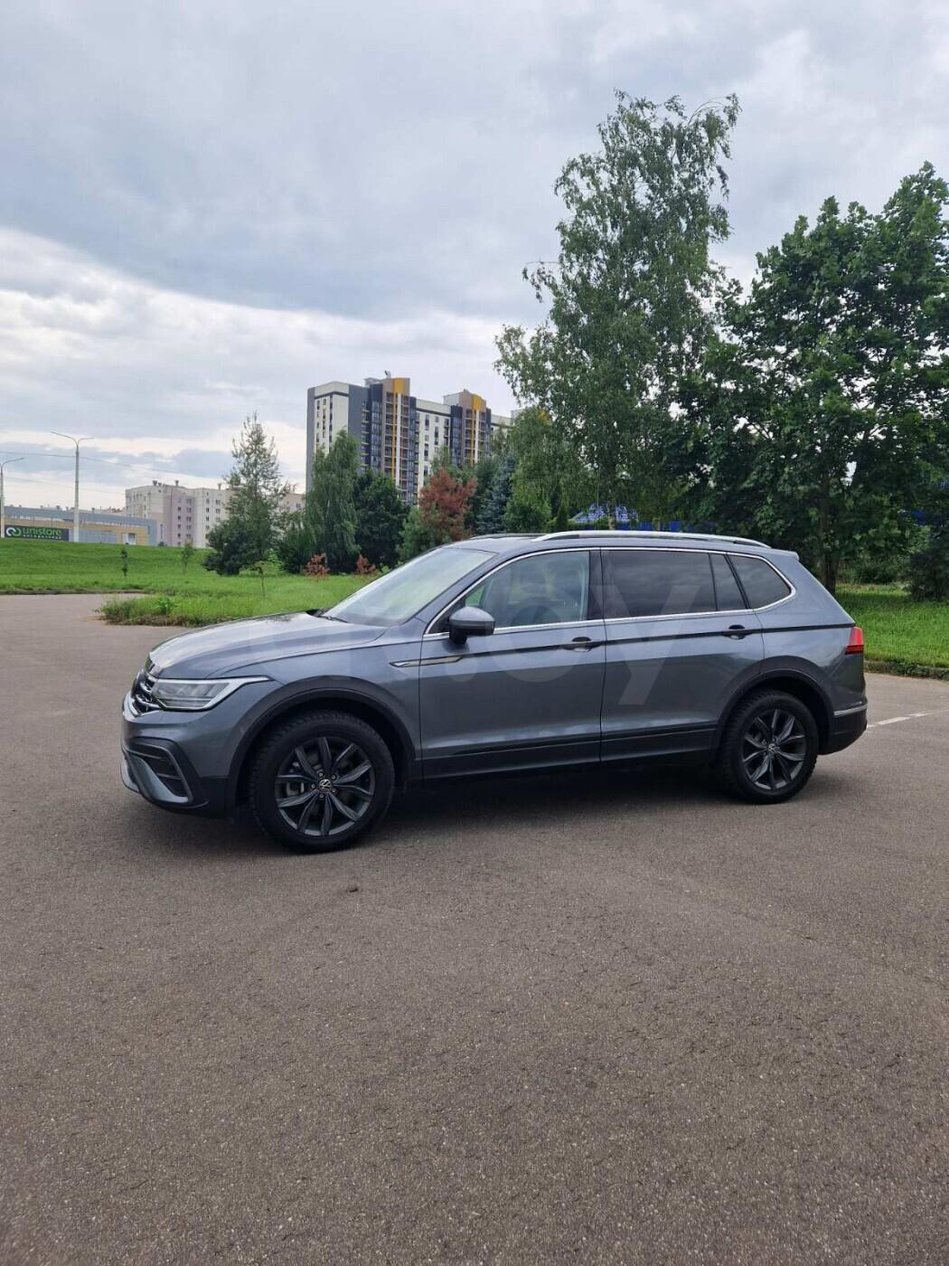Tiguan_2020-2024: (121, 523, 869, 852)
